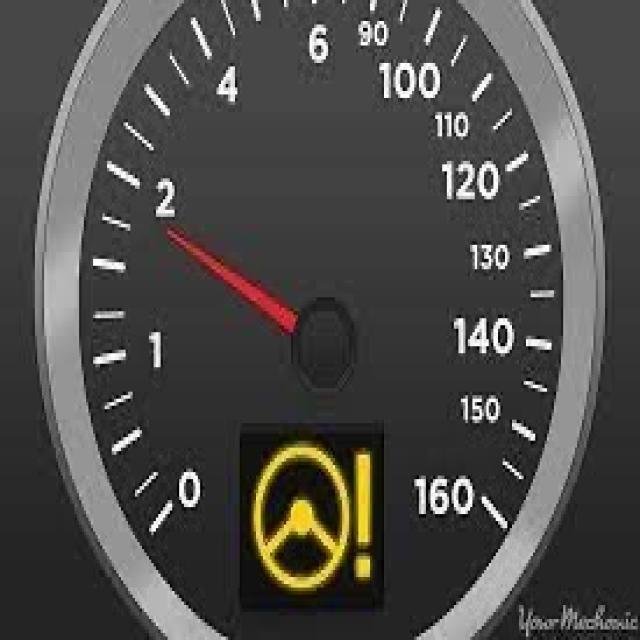kontrolka: (248, 432, 380, 614)
